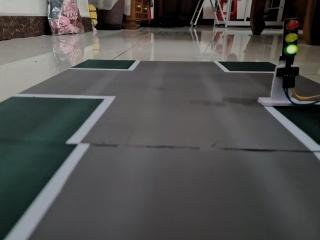green: (279, 10, 303, 64)
